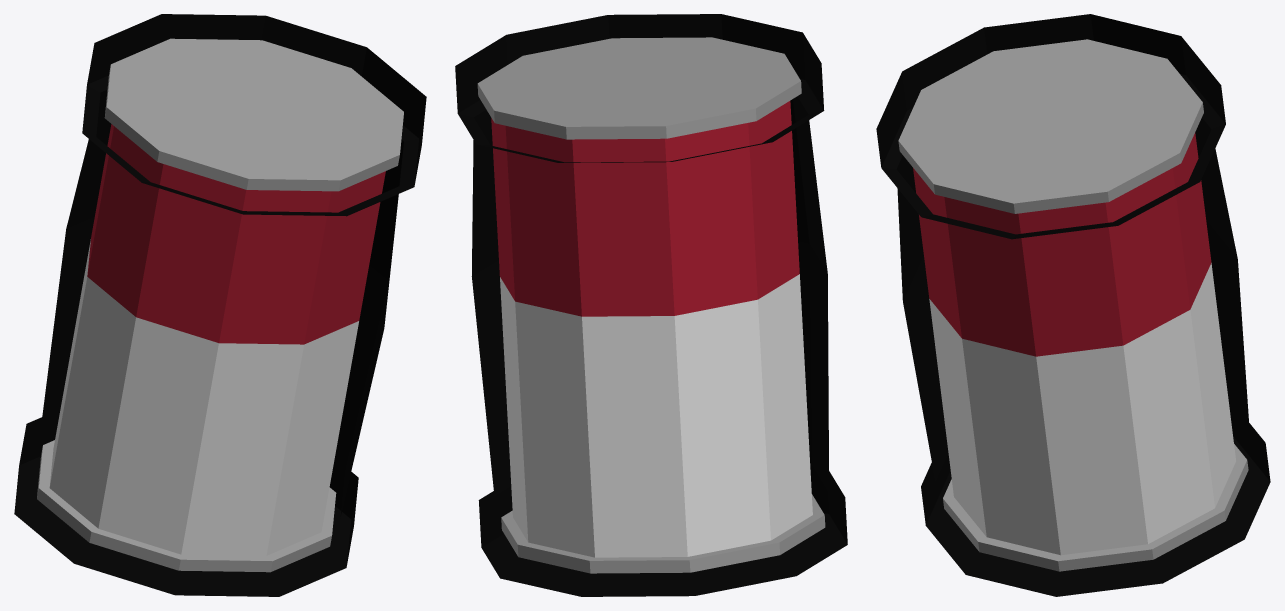
Rendered from soup.fbx.
3 renders of one model, left to right at view 1: azimuth 30°, elevation 25°; view 2: azimuth 150°, elevation 25°; view 3: azimuth 270°, elevation 25°, orthographic. The views are drawn at different scales.
Visible parts, largest first — view 1: Soup; view 2: Soup; view 3: Soup.
Boxes of the visible parts, x1,y1,x2,y2 form: Soup: (14,14,426,596); Soup: (455,14,847,596); Soup: (876,14,1270,596).
Size of the model in its own units: 73.46 by 97.69 by 74.14.
